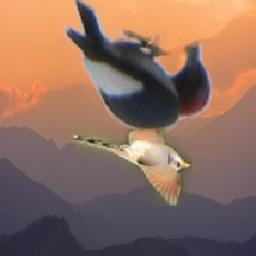Cuckoo: (74, 129, 192, 206)
Woodpecker: (62, 0, 218, 135)
